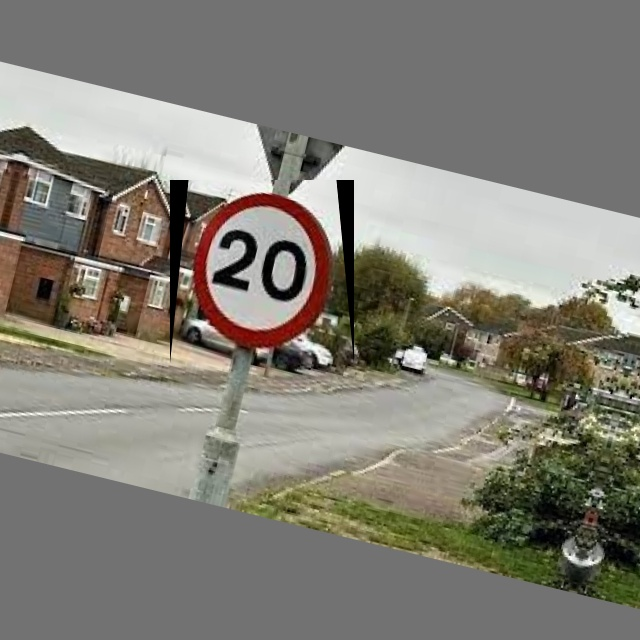Speed_Limit_20: (170, 180, 354, 364)
